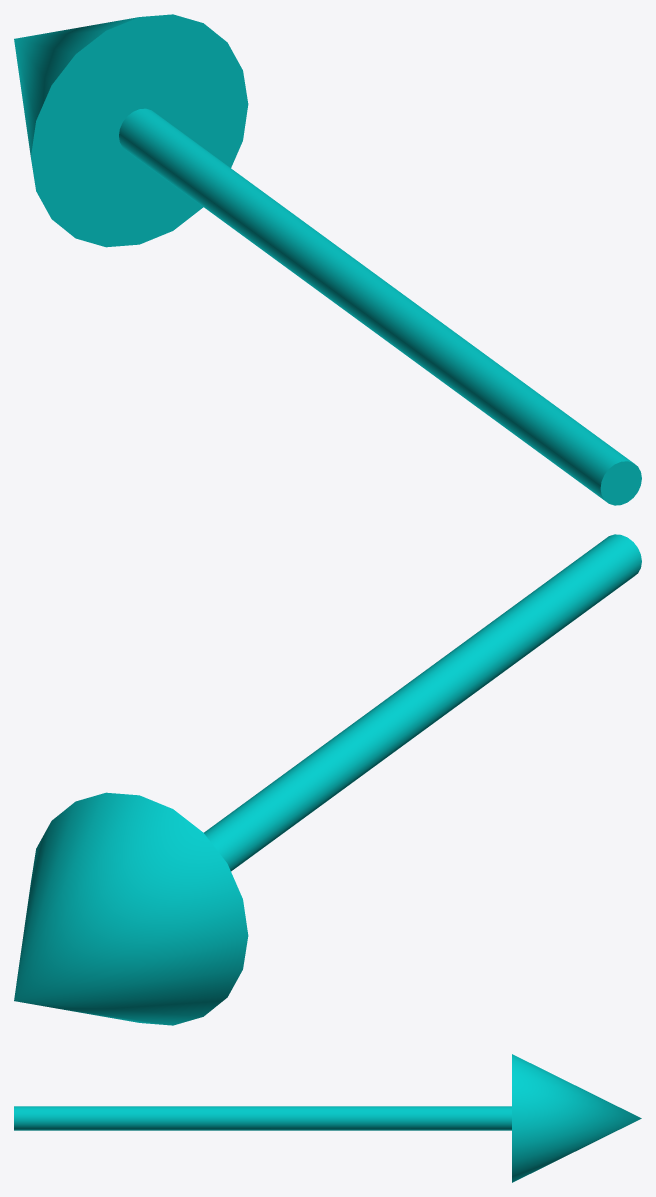
The model's file is arrow.dae.
3 renders of one model, top to bottom at view 1: azimuth 30°, elevation 25°; view 2: azimuth 150°, elevation 25°; view 3: azimuth 270°, elevation 25°, orthographic. The views are drawn at different scales.
Parts seen in each view (by area): view 1: pCone1; view 2: pCone1; view 3: pCone1.
Part boxes in pixels (bbox=[...]): pCone1: bbox=[14, 14, 641, 505]; pCone1: bbox=[14, 534, 641, 1025]; pCone1: bbox=[14, 1054, 641, 1182].
Size of the model in its own units: 0.8913 by 0.8913 by 4.31.
